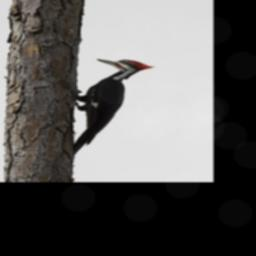Woodpecker: (74, 59, 155, 157)
